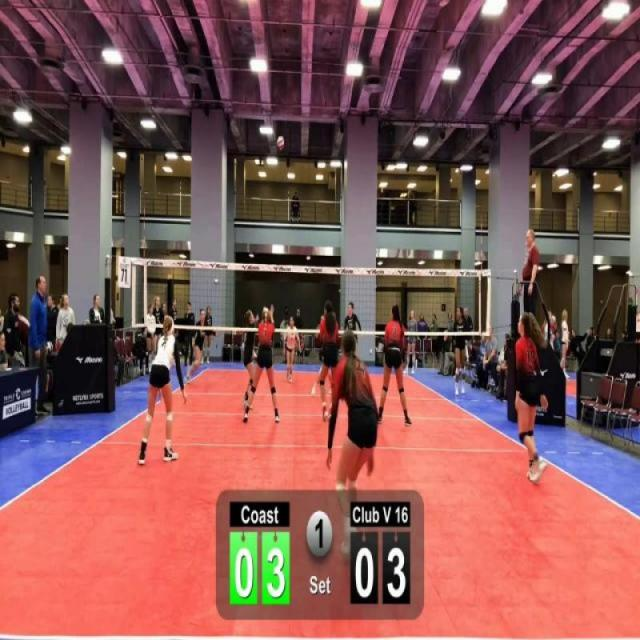volleyball: (274, 134, 286, 154)
